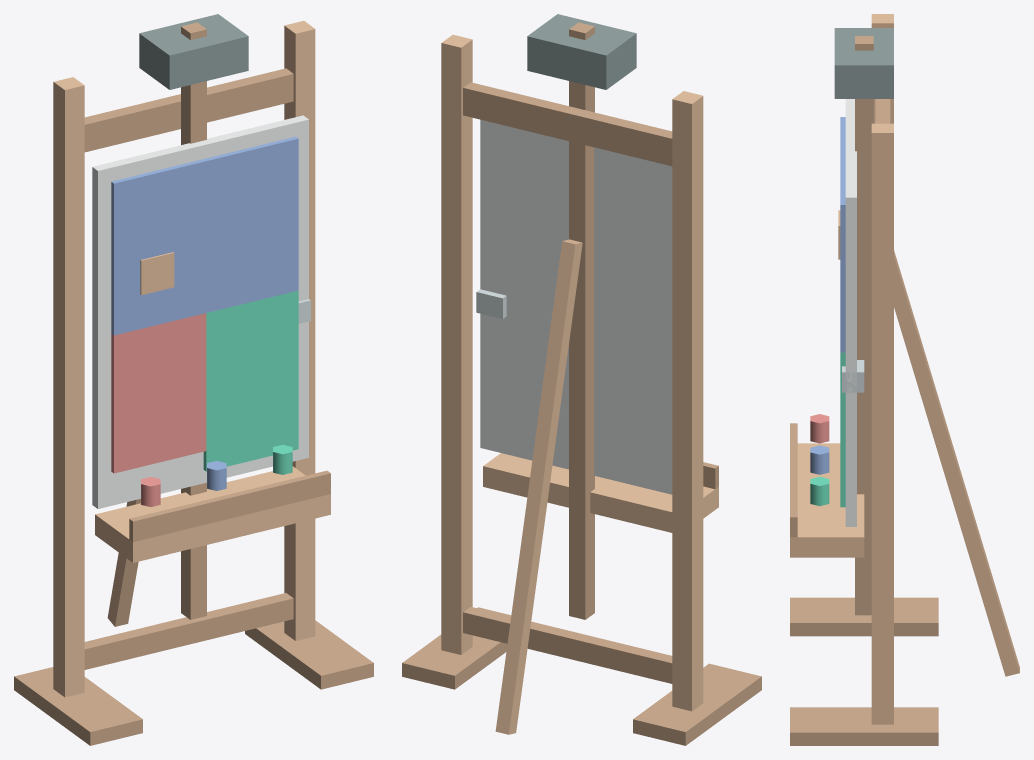
File: easelGallery.glb
The picture shows the model from 3 angles, left to right: view 1: azimuth 30°, elevation 25°; view 2: azimuth 150°, elevation 25°; view 3: azimuth 270°, elevation 25°; orthographic projection. The views are drawn at different scales.
Parts seen in each view (by area): view 1: easelGallery; view 2: easelGallery; view 3: easelGallery.
Boxes of the visible parts, x1=… form: easelGallery: x1=14, y1=14, x2=373, y2=745; easelGallery: x1=402, y1=14, x2=761, y2=745; easelGallery: x1=790, y1=14, x2=1019, y2=745.
Bounding box in the file's own units: 0.43 × 0.95 × 0.3096.
